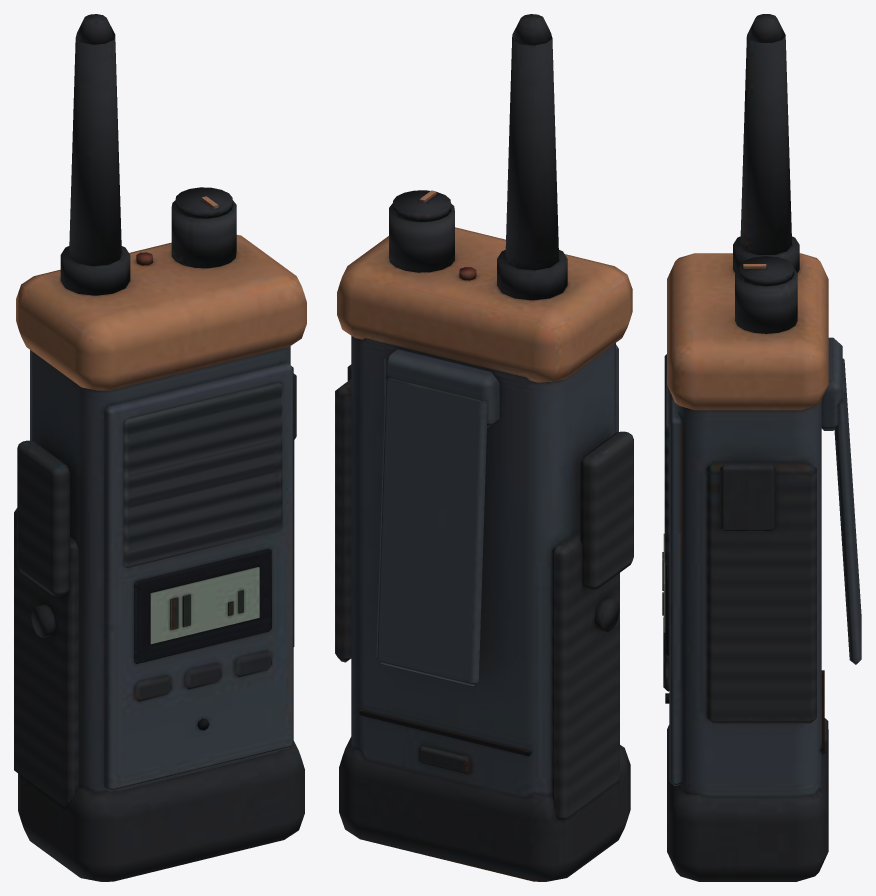
File: radio.glb
The picture shows the model from 3 angles, left to right: view 1: azimuth 30°, elevation 25°; view 2: azimuth 150°, elevation 25°; view 3: azimuth 270°, elevation 25°; orthographic projection. The views are drawn at different scales.
Visible parts, largest first — view 1: radio; view 2: radio; view 3: radio.
Part boxes in pixels (left/top/right/bottom): radio: left=14, top=14, right=306, bottom=881; radio: left=335, top=14, right=633, bottom=881; radio: left=662, top=14, right=861, bottom=881.
Bounding box in the file's own units: 0.0602 × 0.19 × 0.0431.
Materials: 1 (1 with a texture image).
